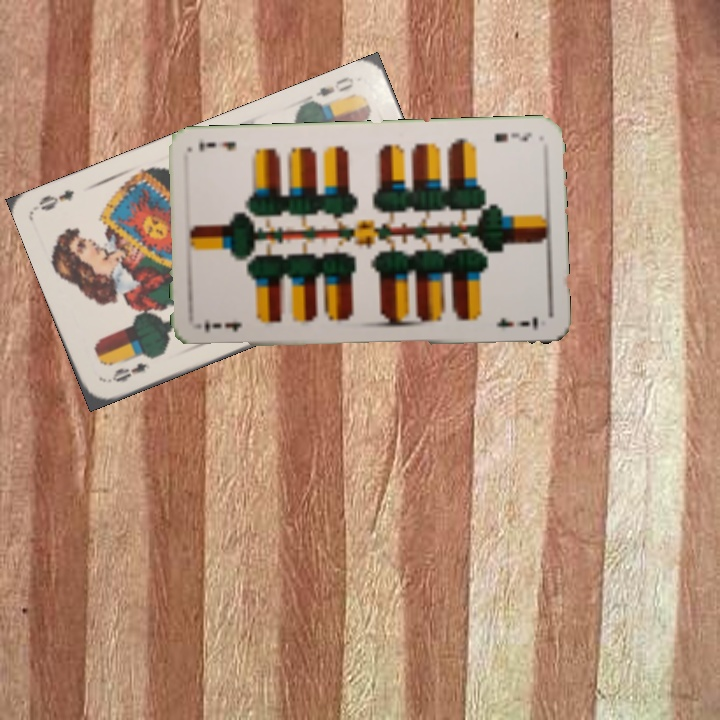E7: (201, 318, 243, 336), (489, 128, 534, 144)
EO: (104, 351, 158, 385), (311, 72, 357, 100)
